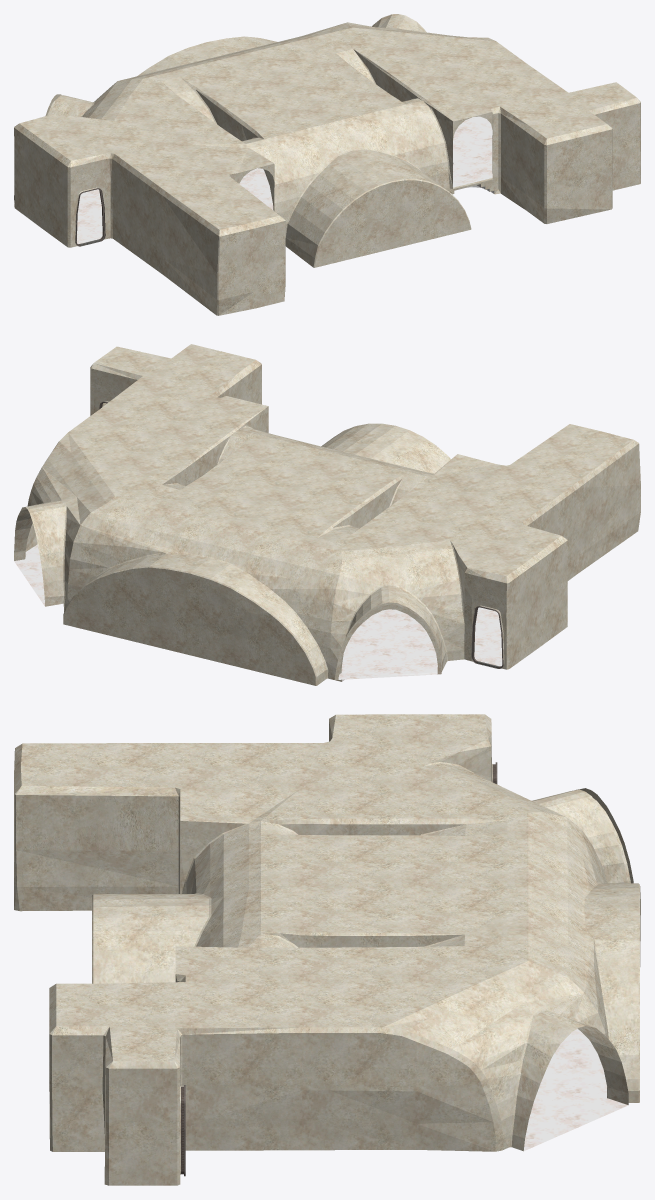
The model's file is thm_tato_assoc_hall_civ_s02_r2_lobby_mesh_r2.fbx.
3 views of the same model, one above another, from view 1: azimuth 30°, elevation 25°; view 2: azimuth 150°, elevation 25°; view 3: azimuth 270°, elevation 25° (orthographic). The views are drawn at different scales.
Visible parts, largest first — view 1: mesh_node; view 2: mesh_node; view 3: mesh_node.
Boxes of the visible parts, left/top/right/bottom form: mesh_node: left=14, top=14, right=640, bottom=315; mesh_node: left=14, top=344, right=640, bottom=685; mesh_node: left=14, top=714, right=640, bottom=1185.
Size of the model in its own units: 30.74 by 5.5 by 23.17.
